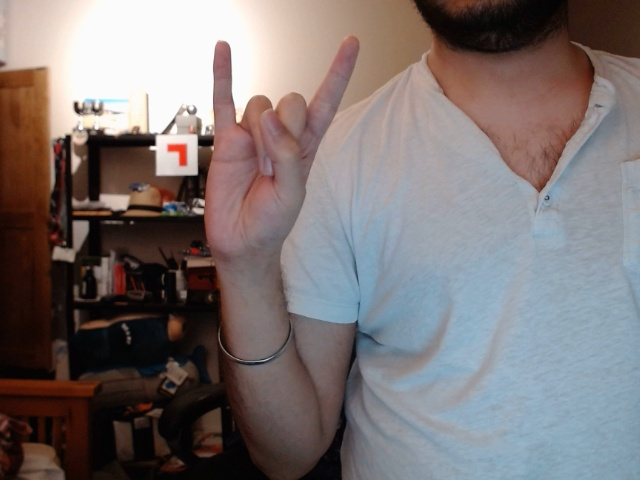Rock on: (173, 30, 373, 269)
